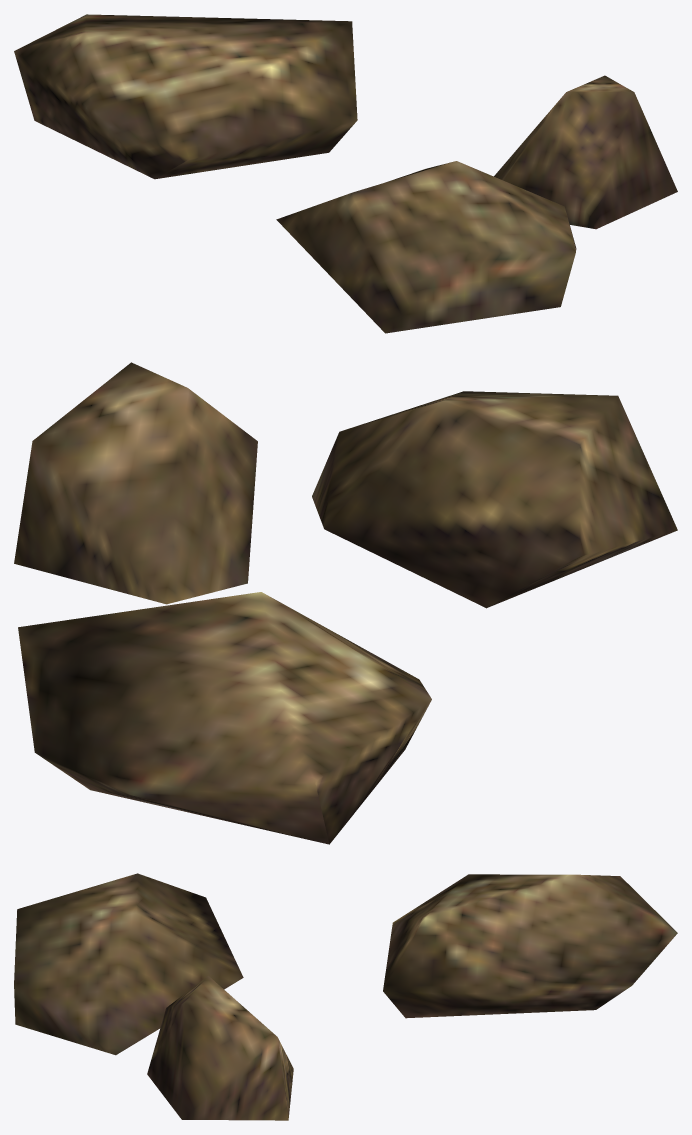
The model's file is Scene_Rock_03.FBX.
The picture shows the model from 3 angles, top to bottom: view 1: azimuth 30°, elevation 25°; view 2: azimuth 150°, elevation 25°; view 3: azimuth 270°, elevation 25°; orthographic projection. The views are drawn at different scales.
Parts seen in each view (by area): view 1: Scene_Rock_03; view 2: Scene_Rock_03; view 3: Scene_Rock_03.
Part boxes in pixels (bbox=[...]): Scene_Rock_03: bbox=[14, 14, 677, 333]; Scene_Rock_03: bbox=[14, 362, 677, 844]; Scene_Rock_03: bbox=[14, 873, 677, 1120].
Bounding box in the file's own units: 1.25 × 0.3361 × 1.88.
